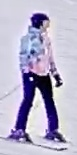skier: (0, 13, 77, 151)
